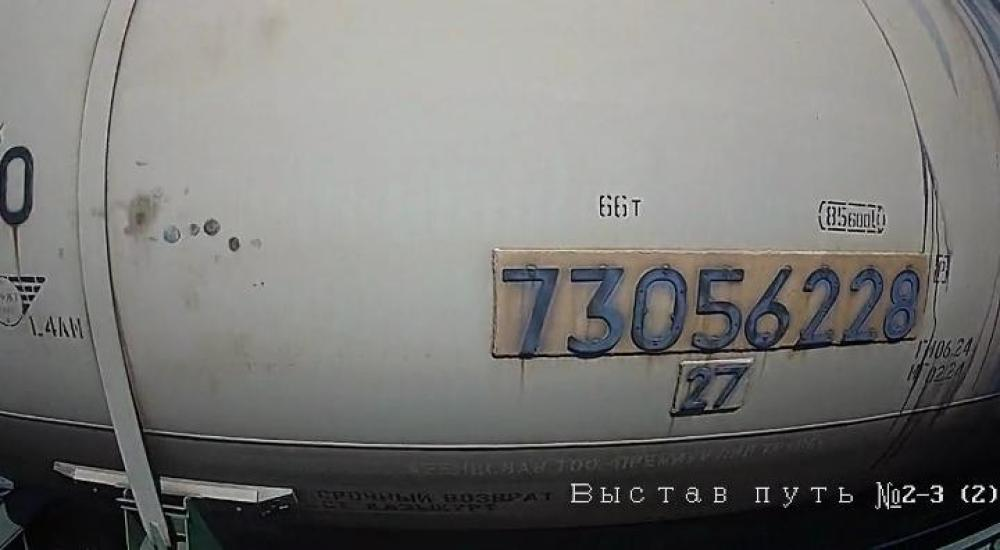Wagon-number: (495, 252, 926, 360)
